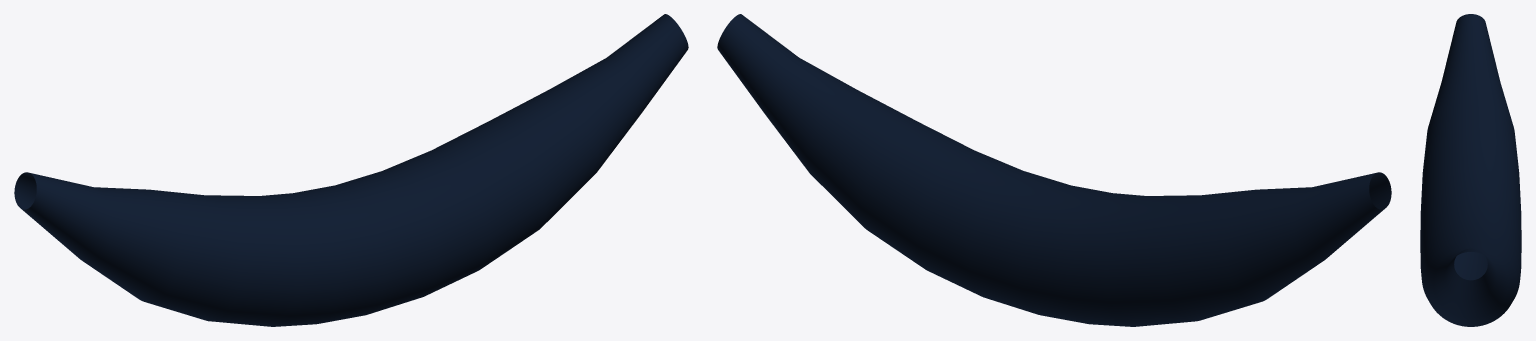
File: mouth2.dae
3 views of the same model, side by side, from view 1: azimuth 30°, elevation 25°; view 2: azimuth 150°, elevation 25°; view 3: azimuth 270°, elevation 25° (orthographic). The views are drawn at different scales.
Visible parts, largest first — view 1: Mouth; view 2: Mouth; view 3: Mouth.
Part boxes in pixels (bbox=[...]): Mouth: bbox=[14, 14, 688, 326]; Mouth: bbox=[717, 14, 1391, 326]; Mouth: bbox=[1420, 14, 1521, 326].
Size of the model in its own units: 31.27 by 9.8 by 5.46.
